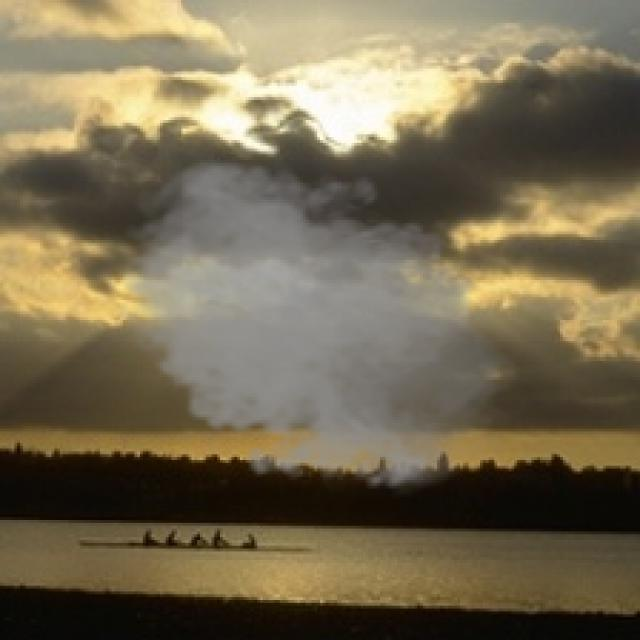smoke: (109, 154, 532, 500)
